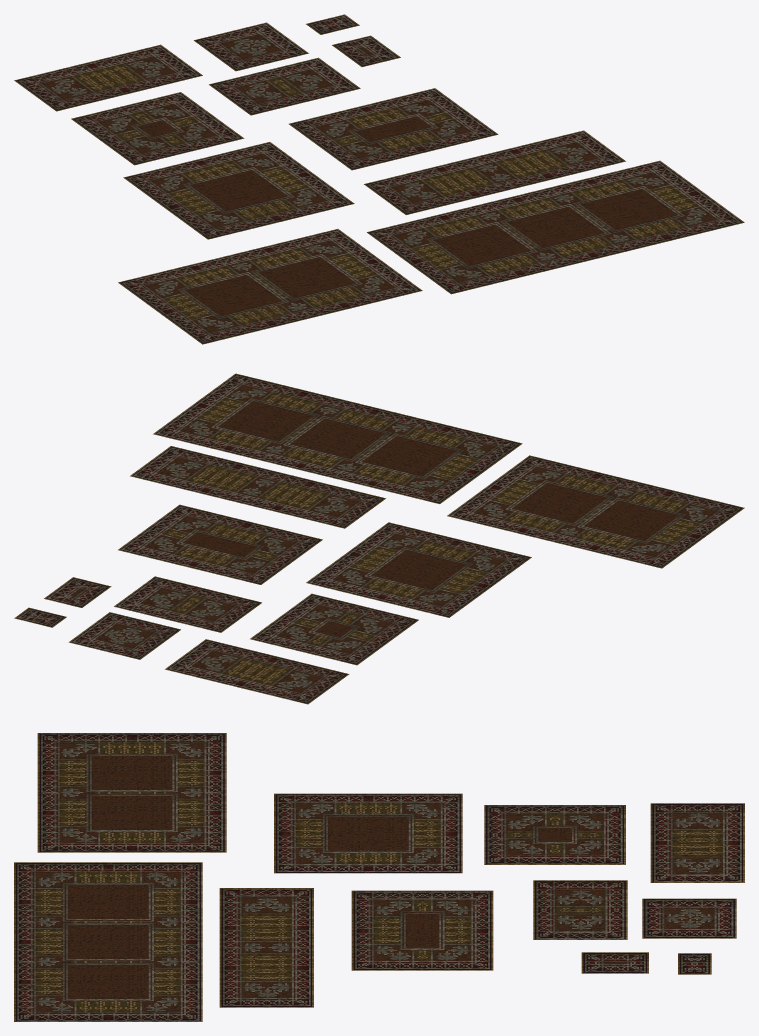
The model's file is EnvObjMD_Carpet_Non_A_1W1D.FBX.
The picture shows the model from 3 angles, top to bottom: view 1: azimuth 30°, elevation 25°; view 2: azimuth 150°, elevation 25°; view 3: azimuth 270°, elevation 25°; orthographic projection. The views are drawn at different scales.
Parts seen in each view (by area): view 1: EnvObjMD_Carpet_Non_A_4W8D, EnvObjMD_Carpet_Non_A_4W6D, EnvObjMD_Carpet_Non_A_4W4D, EnvObjMD_Carpet_Non_A_2W6D, EnvObjMD_Carpet_Non_A_3W4D, EnvObjMD_Carpet_Non_A_3W3D, EnvObjMD_Carpet_Non_A_2W4D, EnvObjMD_Carpet_Non_A_2W3D, EnvObjMD_Carpet_Non_A_2W2D, EnvObjMD_Carpet_Non_A_1W2D, EnvObjMD_Carpet_Non_A_1W1D; view 2: EnvObjMD_Carpet_Non_A_4W8D, EnvObjMD_Carpet_Non_A_4W6D, EnvObjMD_Carpet_Non_A_4W4D, EnvObjMD_Carpet_Non_A_2W6D, EnvObjMD_Carpet_Non_A_3W4D, EnvObjMD_Carpet_Non_A_3W3D, EnvObjMD_Carpet_Non_A_2W4D, EnvObjMD_Carpet_Non_A_2W3D, EnvObjMD_Carpet_Non_A_2W2D, EnvObjMD_Carpet_Non_A_1W2D, EnvObjMD_Carpet_Non_A_1W1D; view 3: EnvObjMD_Carpet_Non_A_4W8D, EnvObjMD_Carpet_Non_A_4W6D, EnvObjMD_Carpet_Non_A_4W4D, EnvObjMD_Carpet_Non_A_3W4D, EnvObjMD_Carpet_Non_A_2W6D, EnvObjMD_Carpet_Non_A_3W3D, EnvObjMD_Carpet_Non_A_2W4D, EnvObjMD_Carpet_Non_A_2W3D, EnvObjMD_Carpet_Non_A_2W2D, EnvObjMD_Carpet_Non_A_1W2D, EnvObjMD_Carpet_Non_A_1W1D.
Boxes of the visible parts, left/top/right/bottom form: EnvObjMD_Carpet_Non_A_4W8D: left=367, top=160, right=744, bottom=294; EnvObjMD_Carpet_Non_A_4W6D: left=118, top=229, right=422, bottom=344; EnvObjMD_Carpet_Non_A_4W4D: left=123, top=142, right=354, bottom=239; EnvObjMD_Carpet_Non_A_2W6D: left=364, top=130, right=625, bottom=214; EnvObjMD_Carpet_Non_A_3W4D: left=289, top=88, right=498, bottom=170; EnvObjMD_Carpet_Non_A_3W3D: left=71, top=92, right=244, bottom=165; EnvObjMD_Carpet_Non_A_2W4D: left=14, top=44, right=202, bottom=111; EnvObjMD_Carpet_Non_A_2W3D: left=209, top=57, right=360, bottom=115; EnvObjMD_Carpet_Non_A_2W2D: left=194, top=22, right=308, bottom=71; EnvObjMD_Carpet_Non_A_1W2D: left=332, top=35, right=400, bottom=66; EnvObjMD_Carpet_Non_A_1W1D: left=306, top=14, right=359, bottom=34; EnvObjMD_Carpet_Non_A_4W8D: left=153, top=373, right=522, bottom=503; EnvObjMD_Carpet_Non_A_4W6D: left=447, top=455, right=744, bottom=568; EnvObjMD_Carpet_Non_A_4W4D: left=306, top=522, right=531, bottom=617; EnvObjMD_Carpet_Non_A_2W6D: left=130, top=446, right=385, bottom=528; EnvObjMD_Carpet_Non_A_3W4D: left=118, top=504, right=322, bottom=584; EnvObjMD_Carpet_Non_A_3W3D: left=250, top=593, right=418, bottom=665; EnvObjMD_Carpet_Non_A_2W4D: left=165, top=639, right=349, bottom=704; EnvObjMD_Carpet_Non_A_2W3D: left=114, top=576, right=261, bottom=632; EnvObjMD_Carpet_Non_A_2W2D: left=68, top=612, right=180, bottom=659; EnvObjMD_Carpet_Non_A_1W2D: left=44, top=577, right=111, bottom=607; EnvObjMD_Carpet_Non_A_1W1D: left=14, top=607, right=66, bottom=627; EnvObjMD_Carpet_Non_A_4W8D: left=14, top=862, right=202, bottom=1021; EnvObjMD_Carpet_Non_A_4W6D: left=37, top=733, right=226, bottom=852; EnvObjMD_Carpet_Non_A_4W4D: left=274, top=793, right=462, bottom=873; EnvObjMD_Carpet_Non_A_3W4D: left=351, top=890, right=493, bottom=970; EnvObjMD_Carpet_Non_A_2W6D: left=219, top=888, right=313, bottom=1007; EnvObjMD_Carpet_Non_A_3W3D: left=484, top=805, right=625, bottom=864; EnvObjMD_Carpet_Non_A_2W4D: left=650, top=803, right=744, bottom=882; EnvObjMD_Carpet_Non_A_2W3D: left=533, top=880, right=627, bottom=939; EnvObjMD_Carpet_Non_A_2W2D: left=642, top=898, right=736, bottom=938; EnvObjMD_Carpet_Non_A_1W2D: left=581, top=952, right=648, bottom=973; EnvObjMD_Carpet_Non_A_1W1D: left=678, top=953, right=711, bottom=974.
Bounding box in the file's own units: 2027 × 8.35e-05 × 2169.
1 material, 1 textured.
